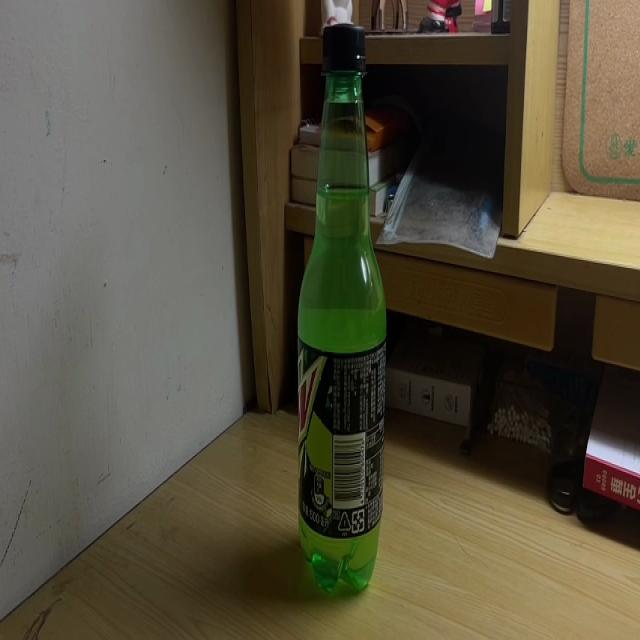Mountain-Dew: (299, 23, 389, 599)
